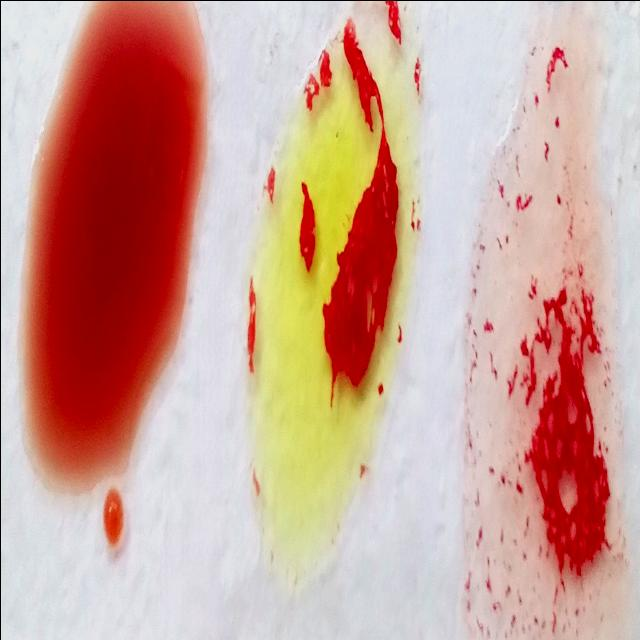B: (241, 13, 419, 559)
D: (477, 83, 610, 640)
